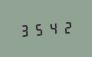five: (32, 20, 45, 37)
four: (46, 19, 59, 36)
three: (18, 21, 31, 37)
two: (60, 18, 73, 35)
